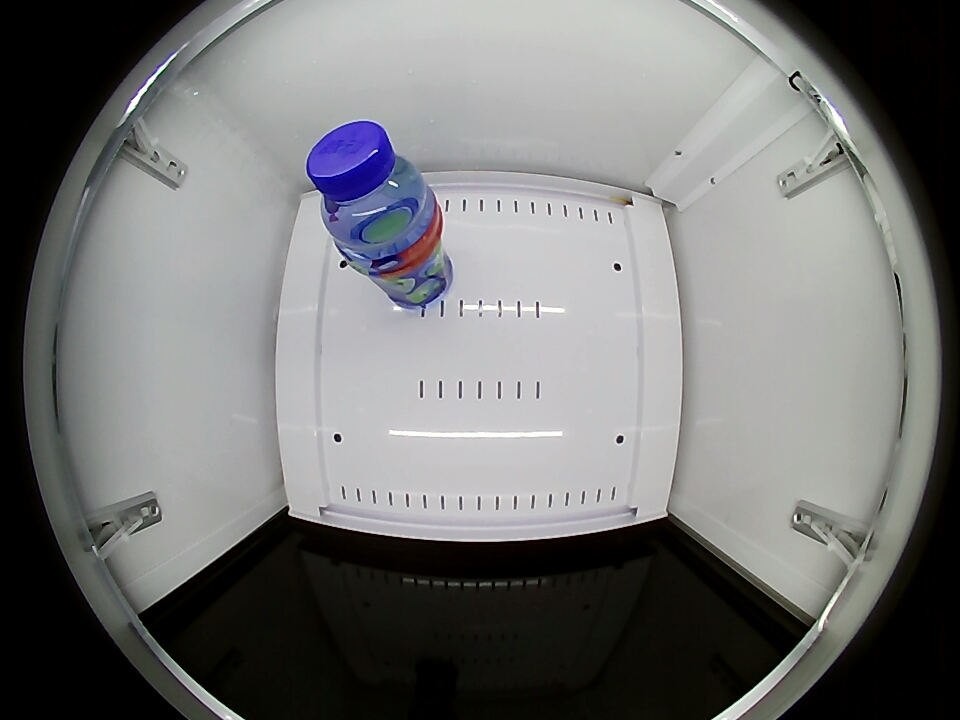maidong: (306, 119, 435, 255)
